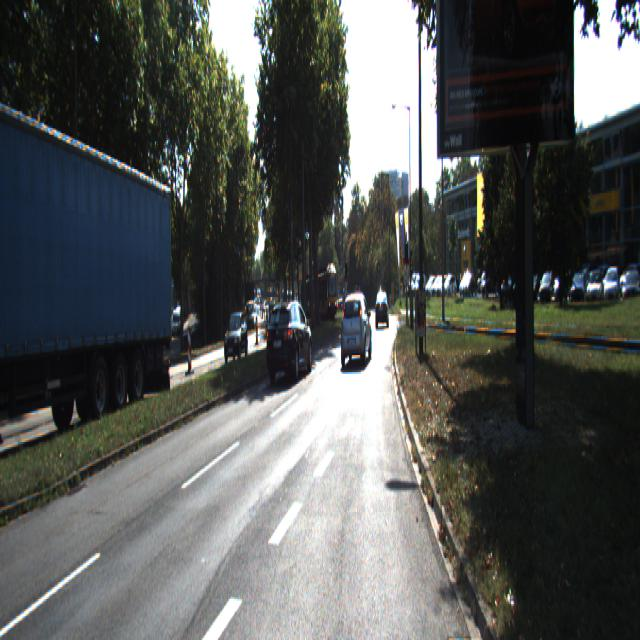Car: (0, 111, 178, 484), (265, 298, 313, 385), (340, 293, 372, 366), (306, 269, 337, 322), (223, 312, 248, 363), (270, 309, 284, 343), (354, 296, 366, 327)
